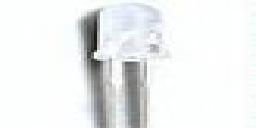LED: (86, 6, 170, 81)
